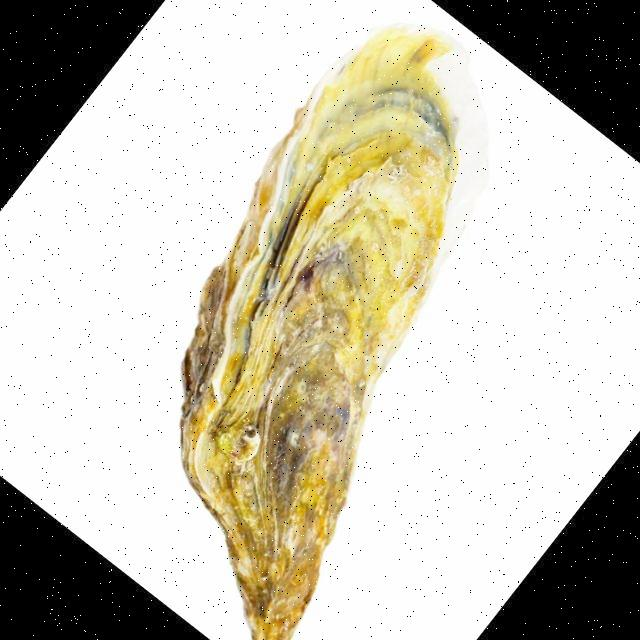Oyster-Closed: (180, 31, 460, 640)
